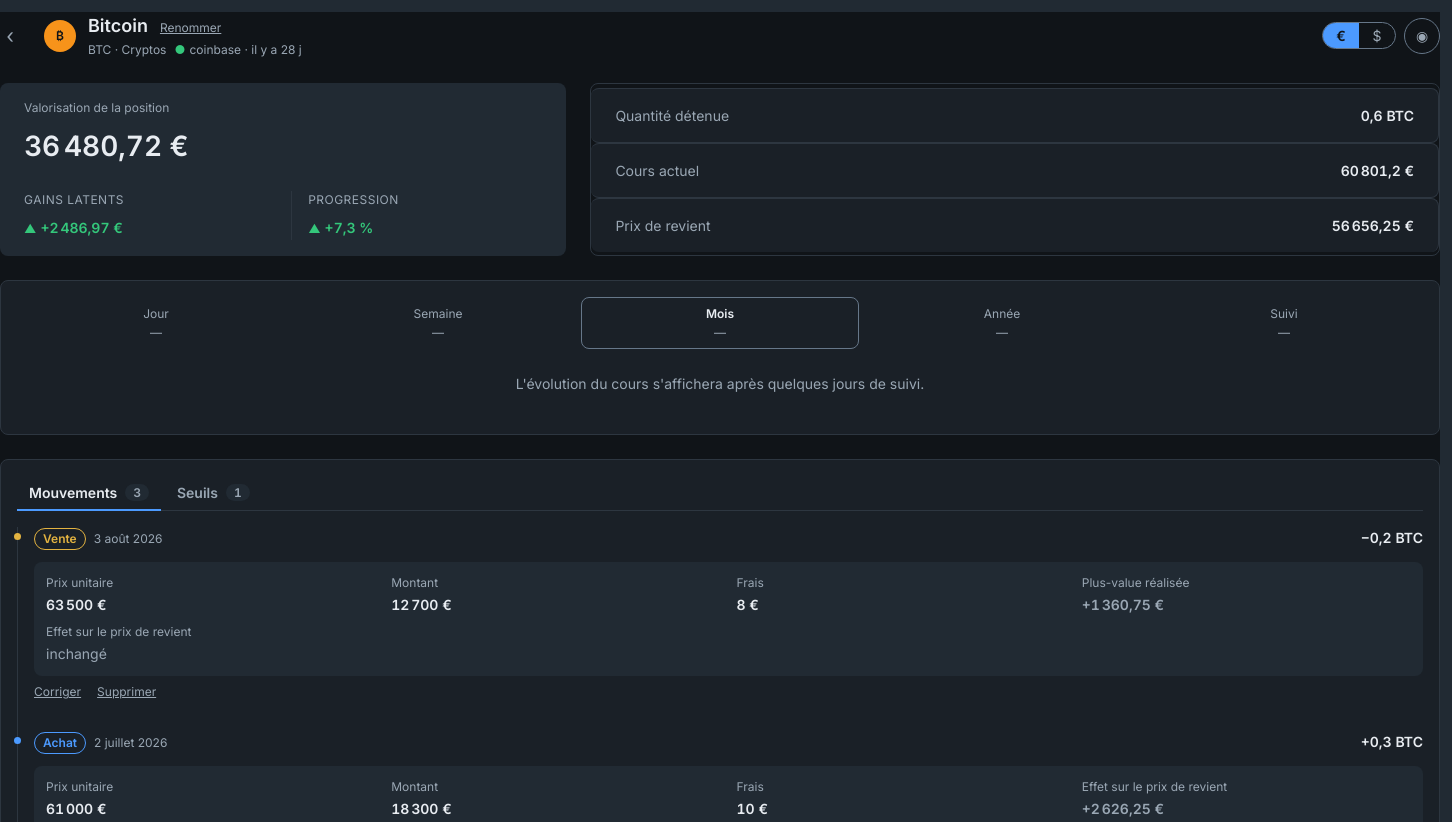
Scenario: frise des mouvements › convertit les montants de la frise en dollars
This screenshot has width=1452, height=822.
Expected: the heading "Bitcoin" is shown, x1=88 y1=12 x2=148 y2=39
Click the radio button named "Afficher les montants en dollars". click: (1377, 36)
box: x1=1359 y1=23 x2=1395 y2=48
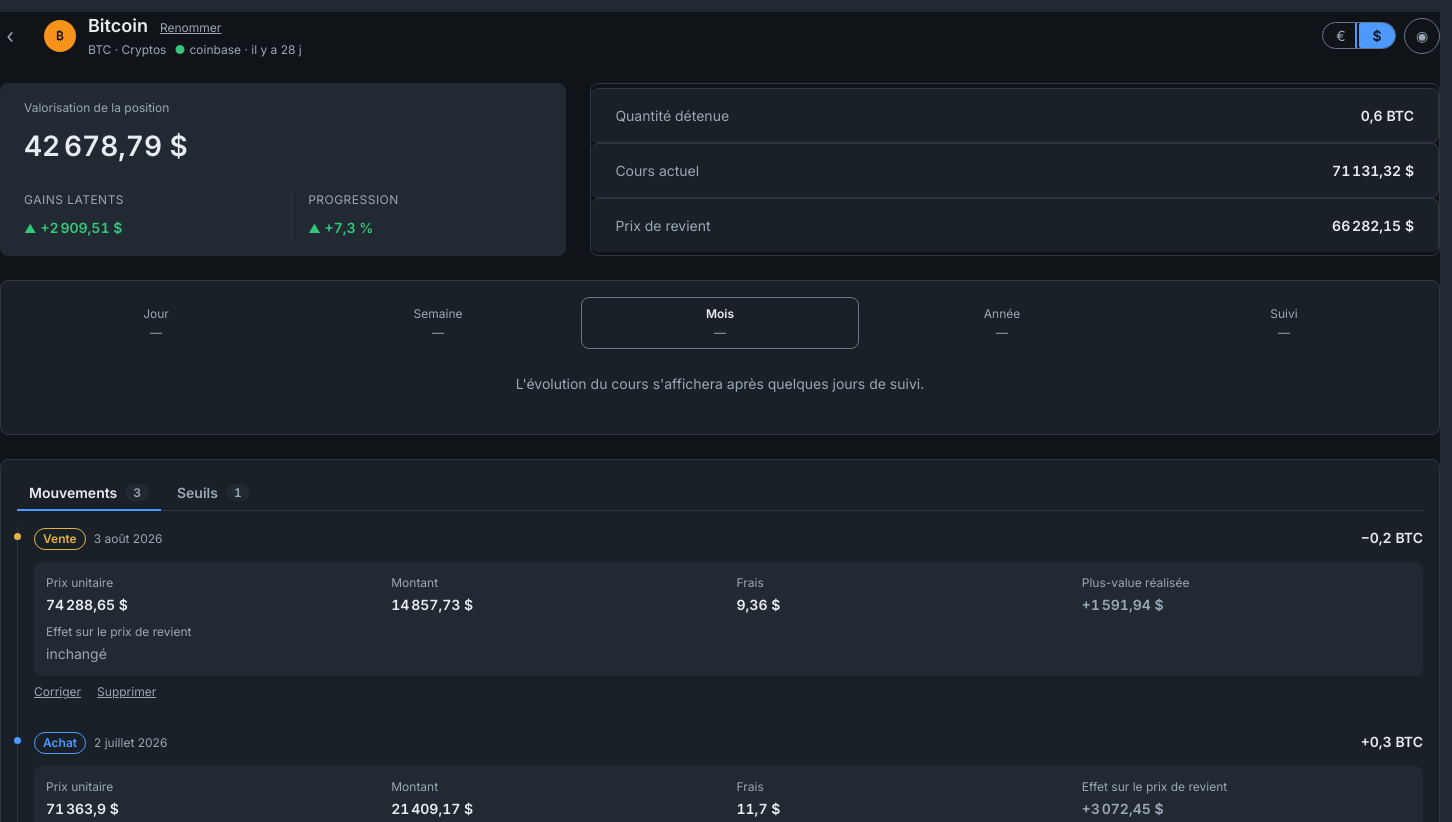
Expected: the list item that starts with "Vente" shows "74.288,65", x1=46 y1=596 x2=128 y2=613
Expected: the list item that starts with "Vente" shows "14.857,73", x1=391 y1=596 x2=473 y2=613
Expected: the list item that starts with "Vente" shows "1.591,94", x1=1082 y1=596 x2=1164 y2=613
